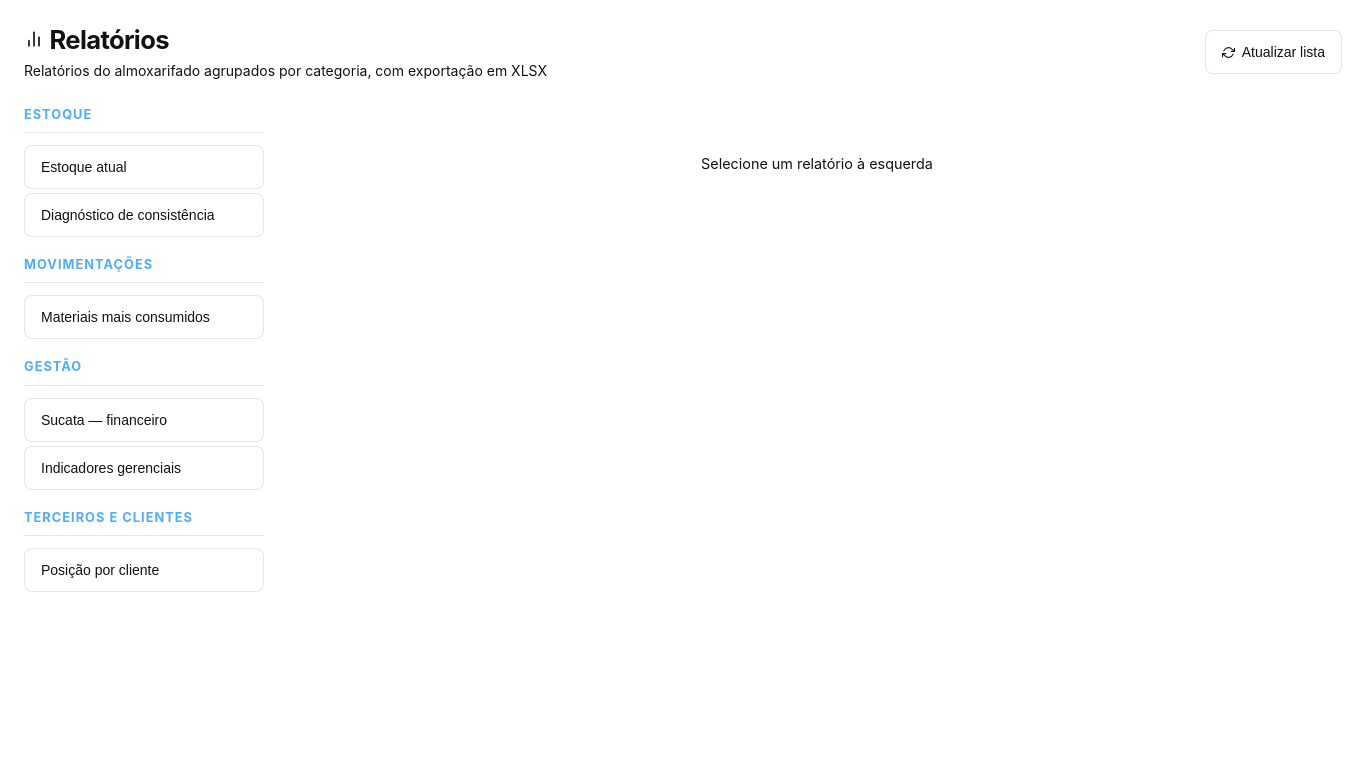
it: RelatoriosAlmoxarifado — tabela genérica (payload array) › célula nula vira travessão, data UTC-safe cruzando meia-noite não muda de dia
Click the button with test id "menu-relatorio-materiais-mais-consumidos" at (144, 317), box 24,295 -> 264,339
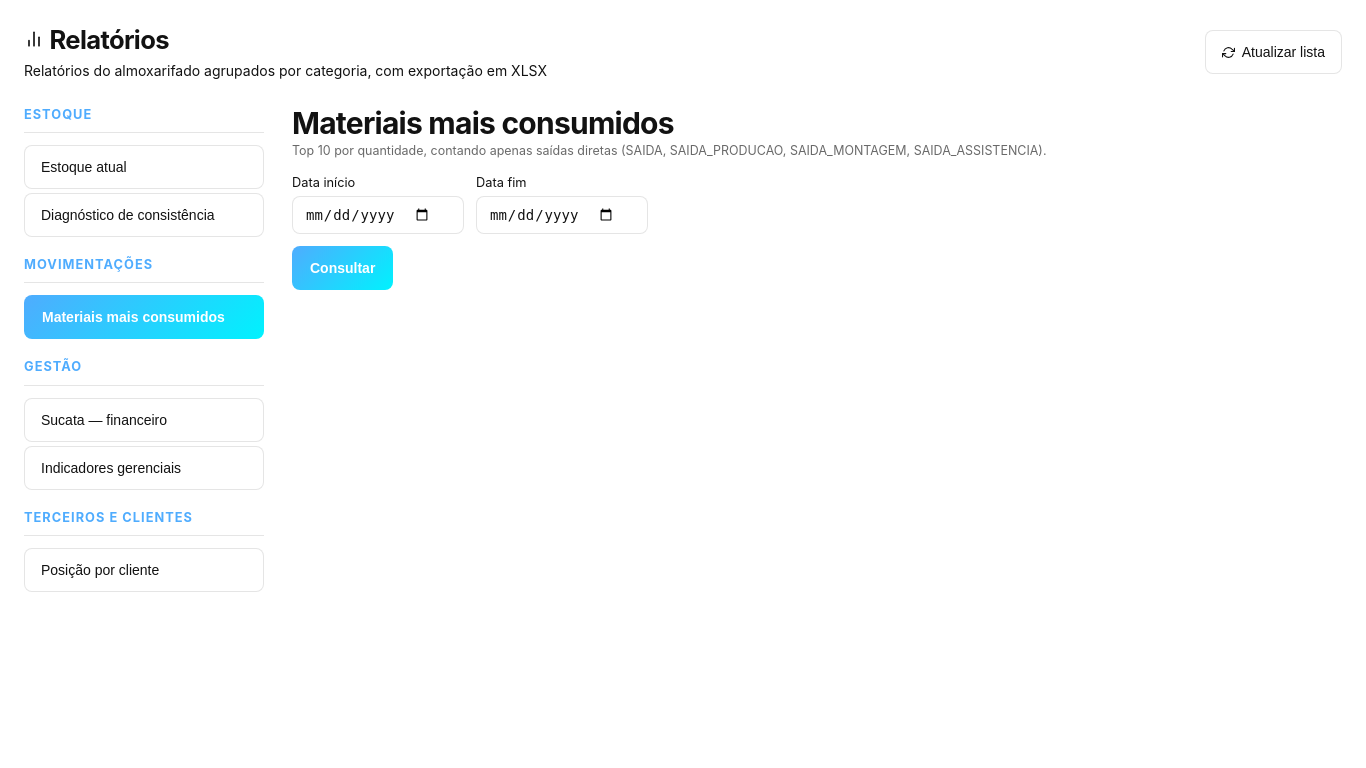
Click the button "Consultar" at (343, 268), box 292,246 -> 393,290
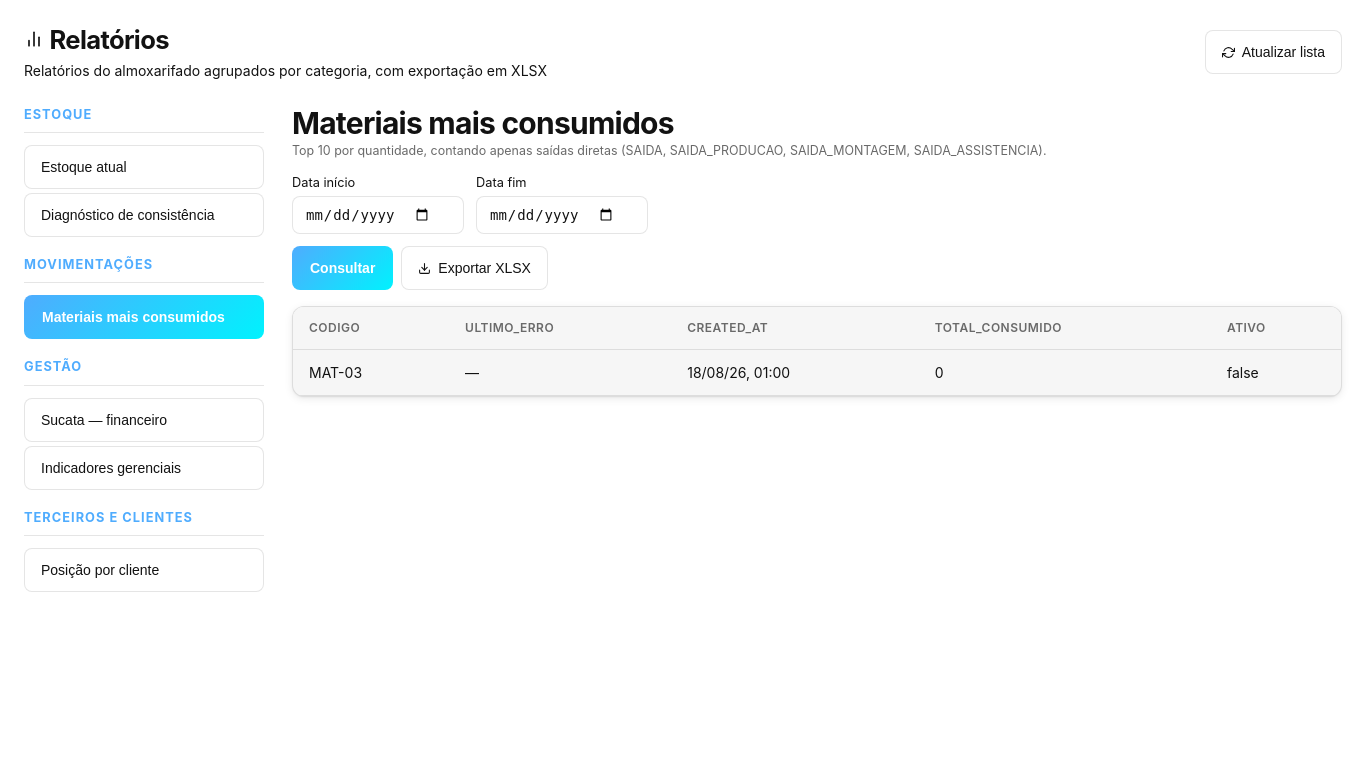
Expected: the cell "—" is shown, 449,350 -> 671,396
Expected: the cell "0" is shown, 919,350 -> 1211,396
Expected: the cell "false" is shown, 1211,350 -> 1341,396
